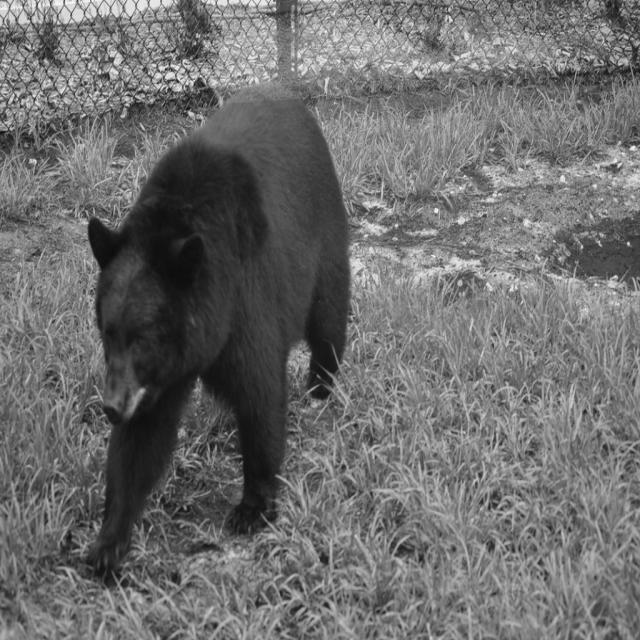Bear: (62, 39, 384, 600)
